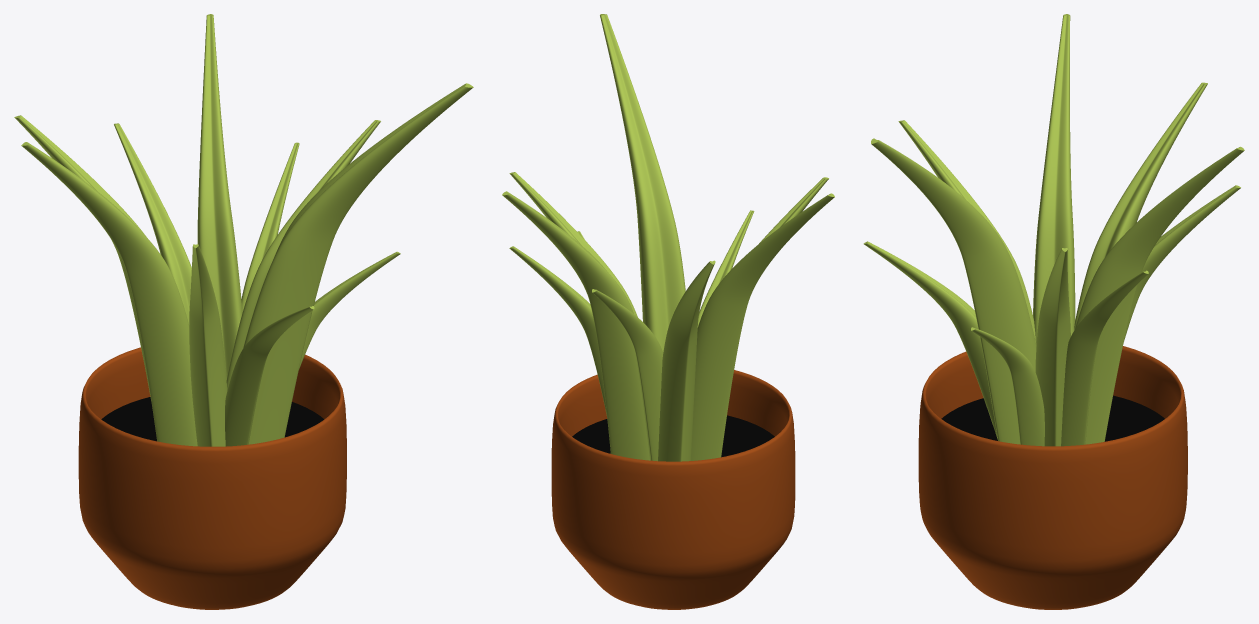
Rendered from plant_.fbx.
The picture shows the model from 3 angles, left to right: view 1: azimuth 30°, elevation 25°; view 2: azimuth 150°, elevation 25°; view 3: azimuth 270°, elevation 25°; orthographic projection. The views are drawn at different scales.
Visible parts, largest first — view 1: Vert, NurbsPath.003, NurbsPath, NurbsPath.002, NurbsPath.005, NurbsPath.008, NurbsPath.006, NurbsPath.004, Circle, NurbsPath.009, NurbsPath.001, NurbsPath.007; view 2: Vert, NurbsPath.003, NurbsPath, NurbsPath.002, NurbsPath.001, NurbsPath.006, Circle, NurbsPath.009, NurbsPath.004, NurbsPath.008, NurbsPath.005; view 3: Vert, NurbsPath.003, NurbsPath.002, NurbsPath, NurbsPath.004, NurbsPath.009, NurbsPath.001, NurbsPath.008, Circle, NurbsPath.007, NurbsPath.006, NurbsPath.005.
Boxes of the visible parts, <box> form: Vert: <box>78,347,346,609</box>; NurbsPath.003: <box>243,83,473,444</box>; NurbsPath: <box>21,142,197,446</box>; NurbsPath.002: <box>197,14,242,379</box>; NurbsPath.005: <box>189,244,227,446</box>; NurbsPath.008: <box>225,306,314,446</box>; NurbsPath.006: <box>114,123,191,324</box>; NurbsPath.004: <box>226,120,380,390</box>; Circle: <box>101,397,323,441</box>; NurbsPath.009: <box>241,142,299,311</box>; NurbsPath.001: <box>14,115,151,400</box>; NurbsPath.007: <box>299,251,400,369</box>; Vert: <box>551,370,795,609</box>; NurbsPath.003: <box>600,14,685,352</box>; NurbsPath: <box>690,193,834,460</box>; NurbsPath.002: <box>502,191,649,460</box>; NurbsPath.001: <box>658,260,715,461</box>; NurbsPath.006: <box>592,289,663,461</box>; Circle: <box>572,415,774,457</box>; NurbsPath.009: <box>509,246,606,415</box>; NurbsPath.004: <box>509,172,637,316</box>; NurbsPath.008: <box>697,210,754,327</box>; NurbsPath.005: <box>759,177,828,243</box>; Vert: <box>918,346,1187,609</box>; NurbsPath.003: <box>871,138,1036,444</box>; NurbsPath.002: <box>1075,146,1244,444</box>; NurbsPath: <box>1033,14,1075,345</box>; NurbsPath.004: <box>1035,248,1070,446</box>; NurbsPath.009: <box>1061,270,1148,446</box>; NurbsPath.001: <box>1074,82,1207,329</box>; NurbsPath.008: <box>863,241,997,438</box>; Circle: <box>941,395,1164,441</box>; NurbsPath.007: <box>971,327,1044,446</box>; NurbsPath.006: <box>1124,185,1240,340</box>; NurbsPath.005: <box>898,120,1035,342</box>.
Bounding box in the file's own units: 1473 × 2043 × 1351.
